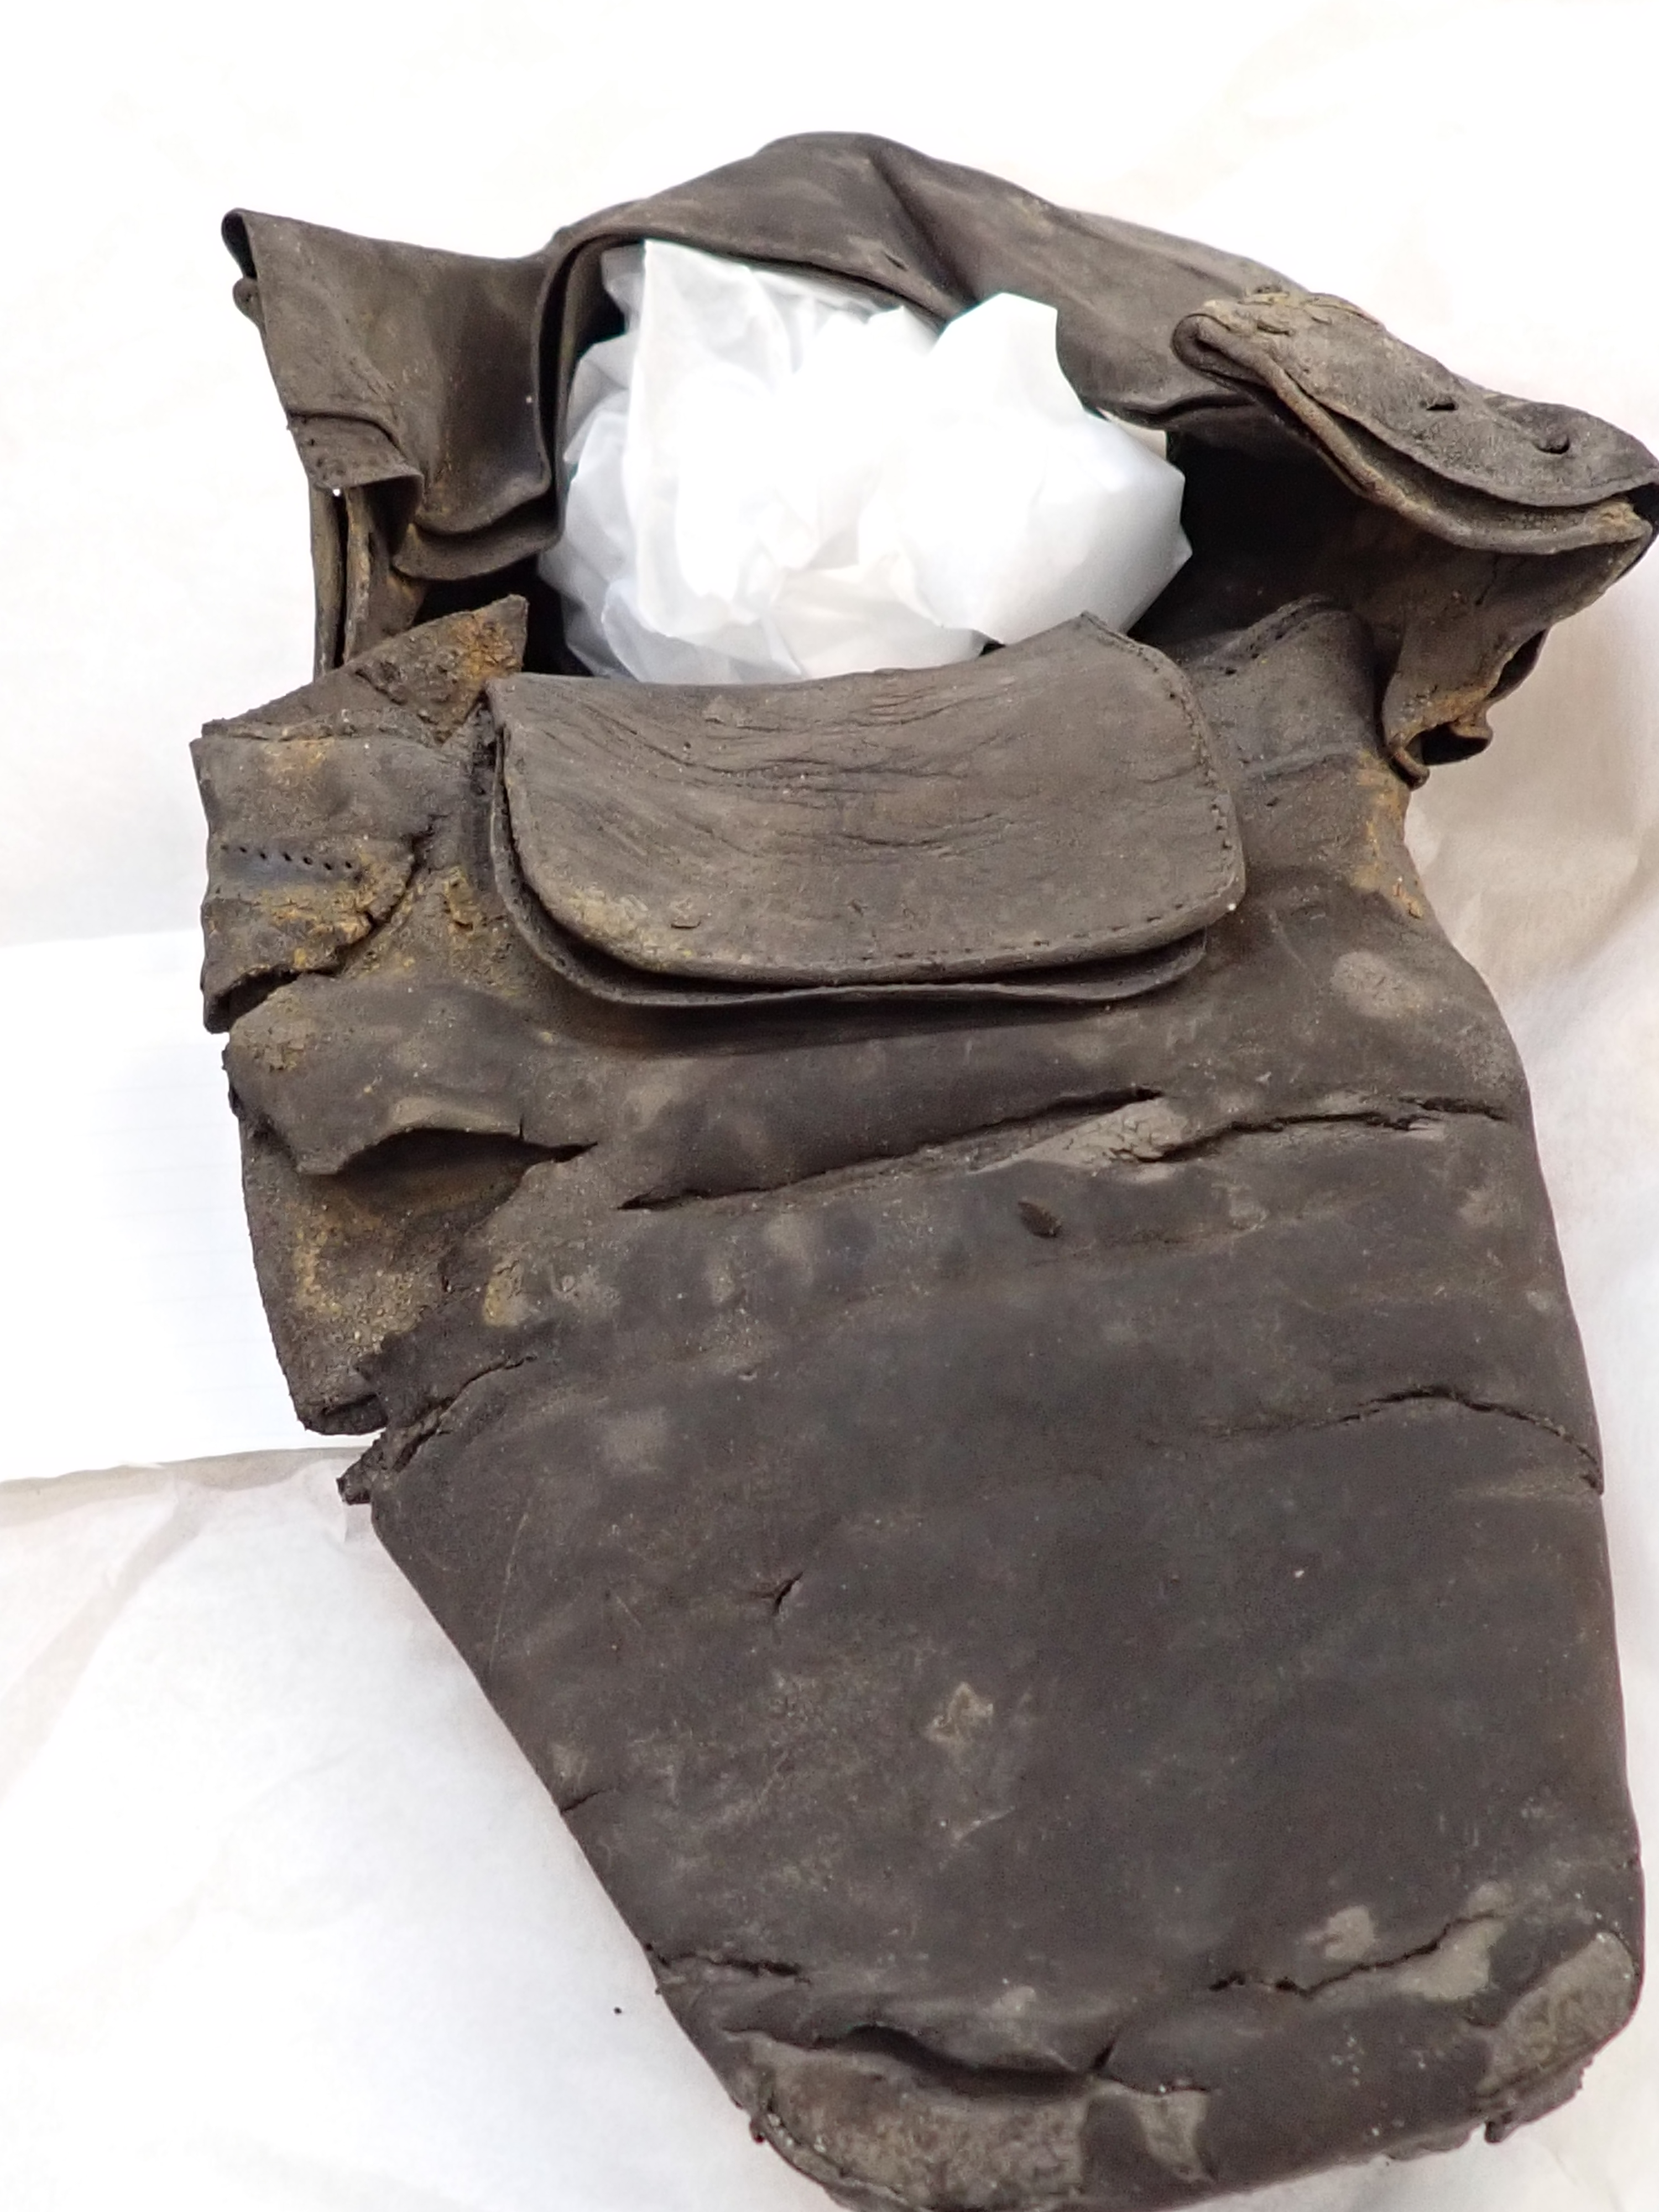Counted_Objects: (157, 122, 1659, 2212)
